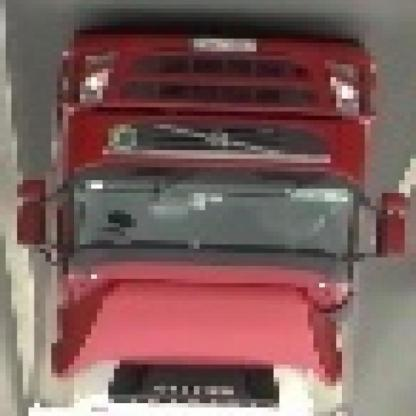truck: (19, 31, 412, 416)
